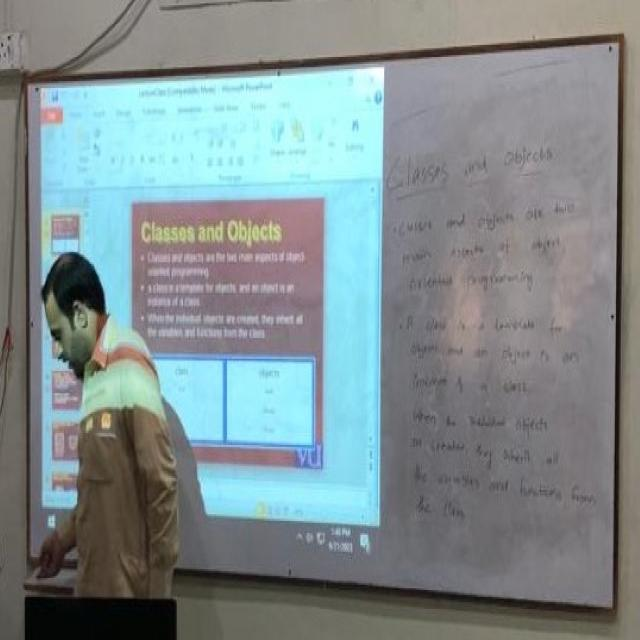Instructor: (36, 257, 178, 594)
Slide: (43, 69, 386, 564)
White-board: (26, 35, 622, 612)
